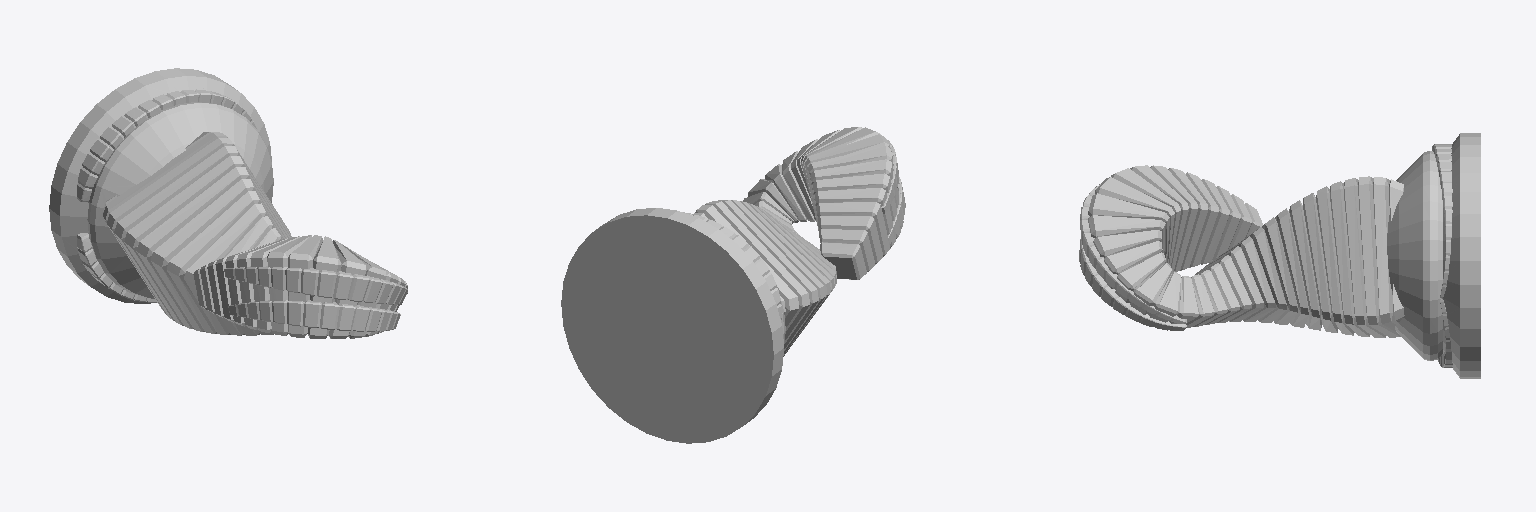
Rendered from Alien-Knight.obj.
3 views of the same model, side by side, from view 1: azimuth 30°, elevation 25°; view 2: azimuth 150°, elevation 25°; view 3: azimuth 270°, elevation 25° (orthographic).
Bounding box in the file's own units: 32.81 × 32.81 × 53.67.